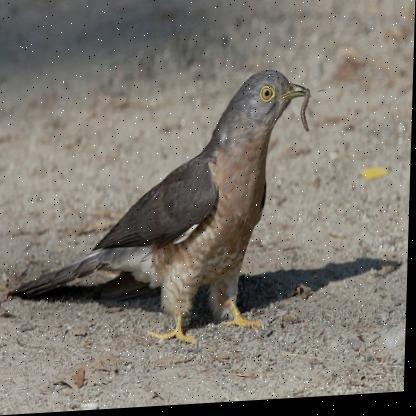Burung: (8, 70, 312, 357)
